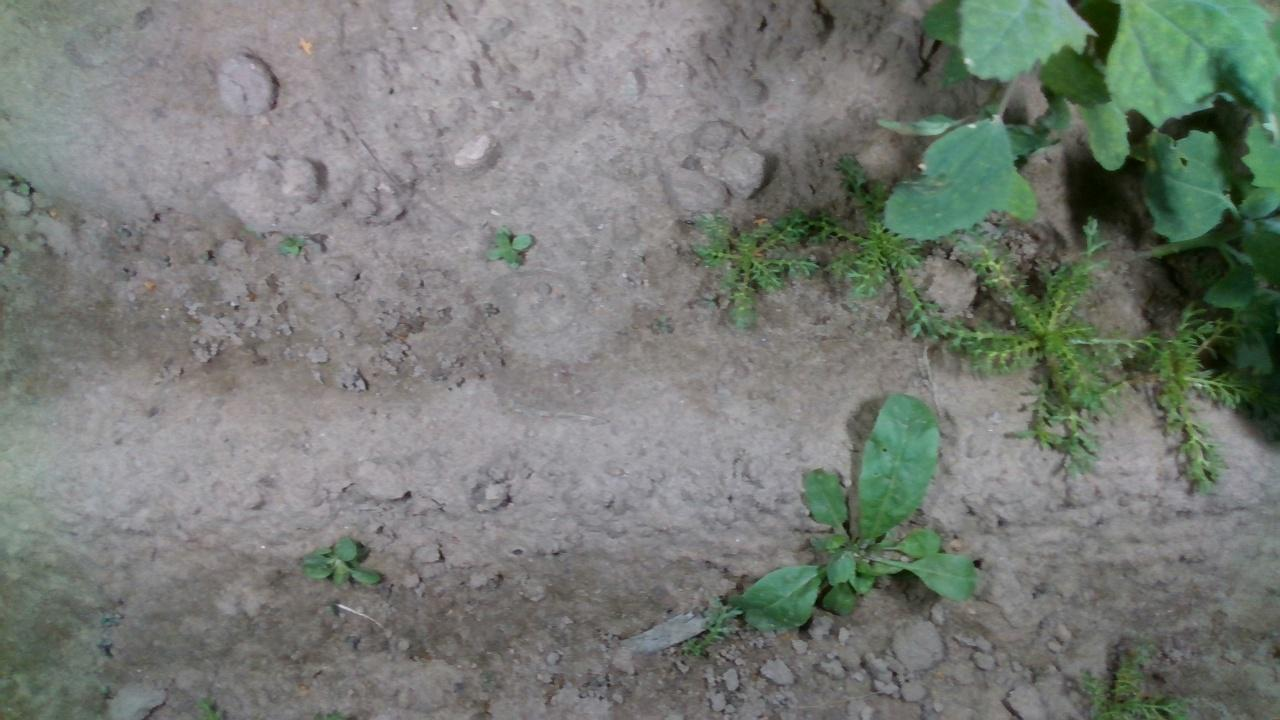weed: (298, 531, 381, 585), (484, 224, 532, 263), (276, 237, 307, 253)
